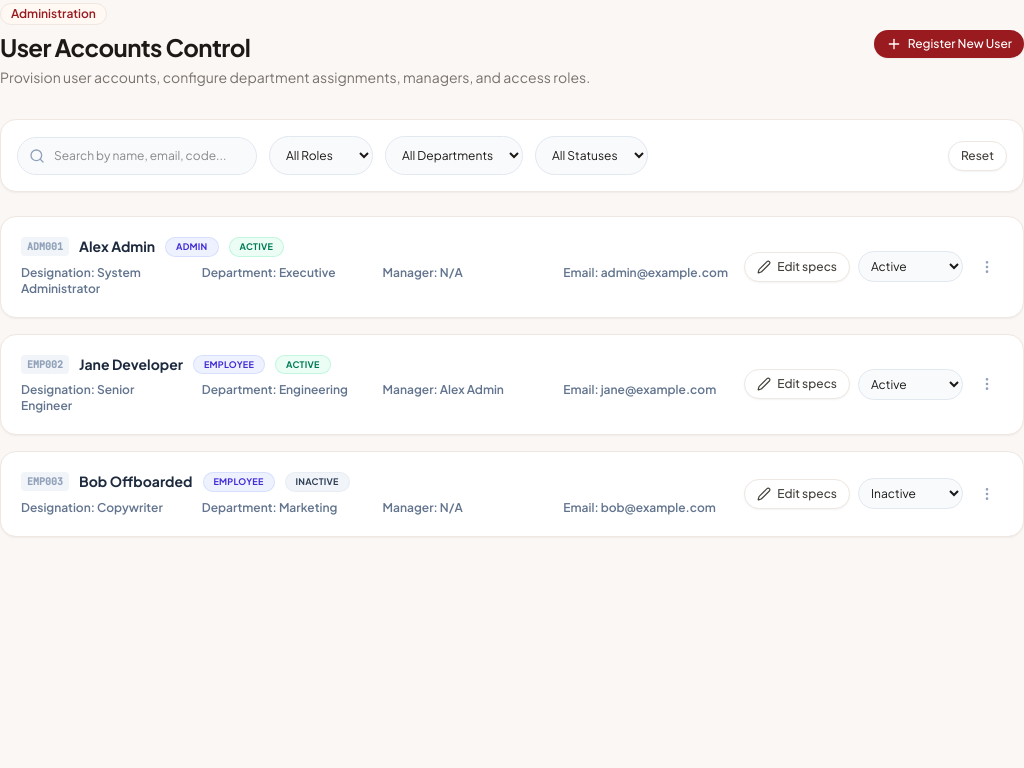
Test case: Admin Workspace: Safe User Deletion & Action Menu UX › handles successful permanent deletion: removes user from list and displays success toast
The image size is (1024, 768).
Expected: the heading "Jane Developer" is shown, x1=79 y1=355 x2=183 y2=374
Click the button named "more actions for jane developer" at (987, 384), box x1=971 y1=368 x2=1003 y2=400
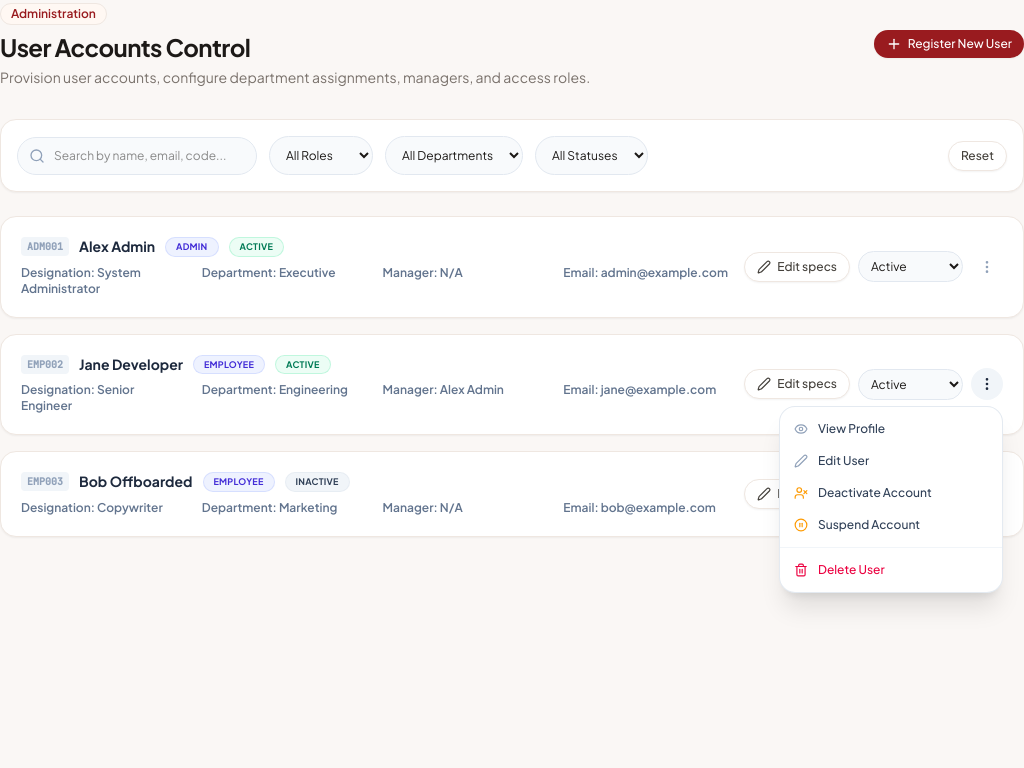
Click the menu item "Delete User" at (891, 570), box x1=780 y1=554 x2=1002 y2=586
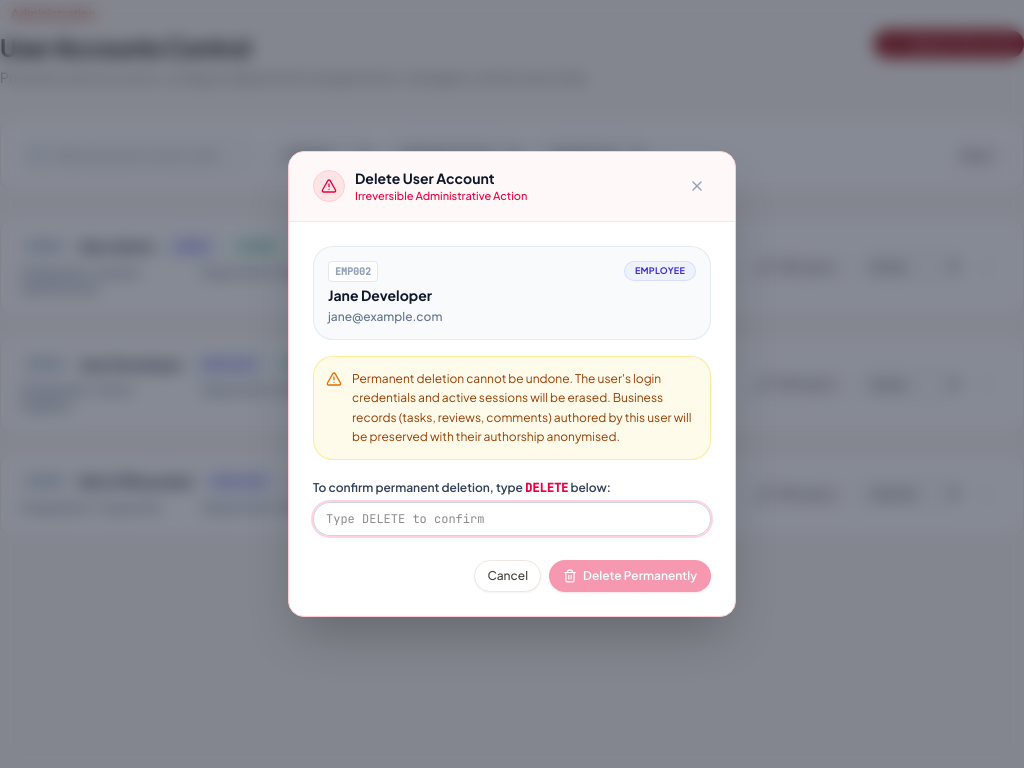
Type "DELETE" into the field with placeholder "Type DELETE to confirm" at (512, 519), box x1=313 y1=502 x2=711 y2=536
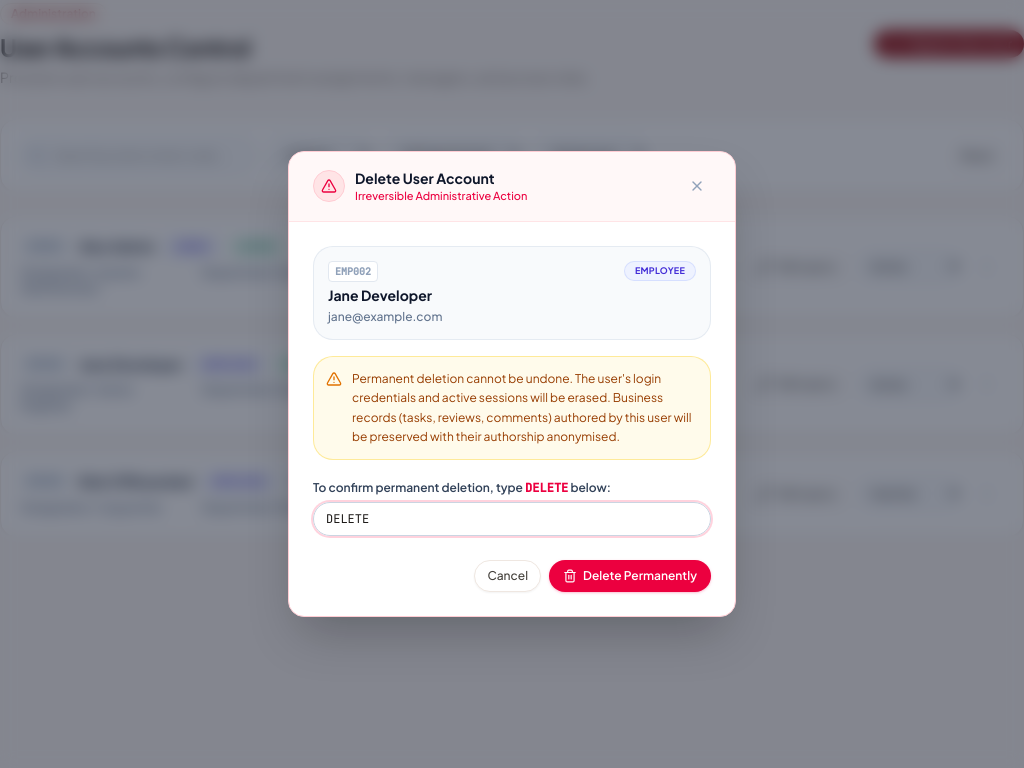
Click the button "Delete Permanently" at (630, 576), box x1=549 y1=560 x2=711 y2=592
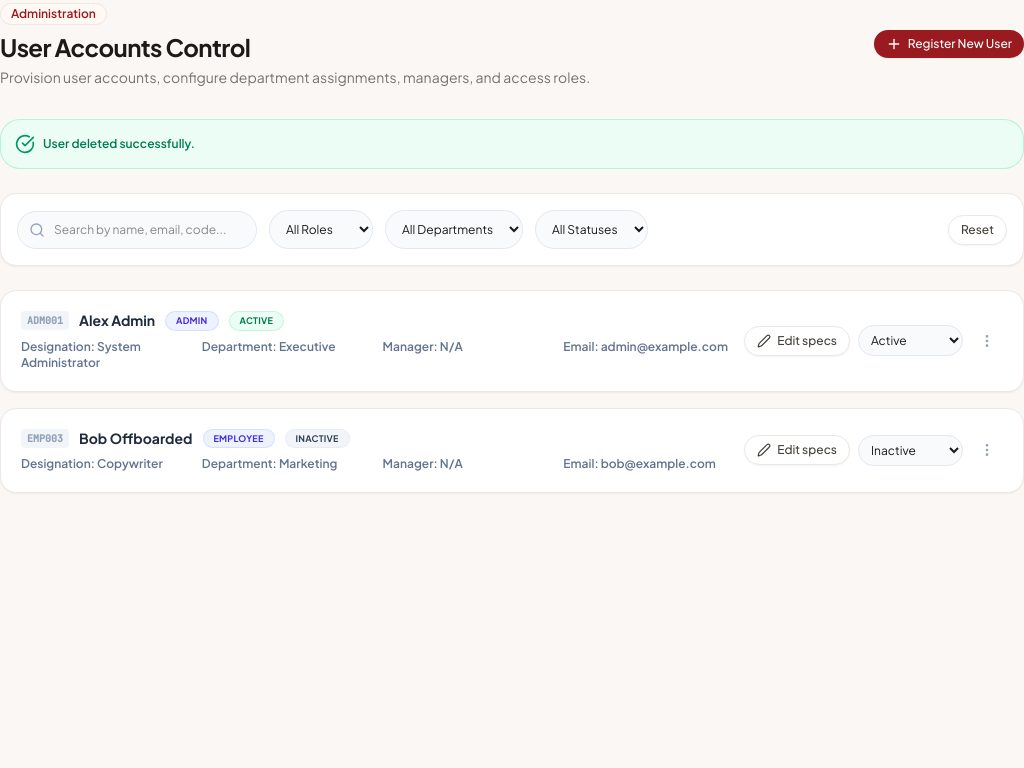
Expected: the text "User deleted successfully." is shown, x1=43 y1=136 x2=195 y2=152
Expected: the heading "Jane Developer" is gone
